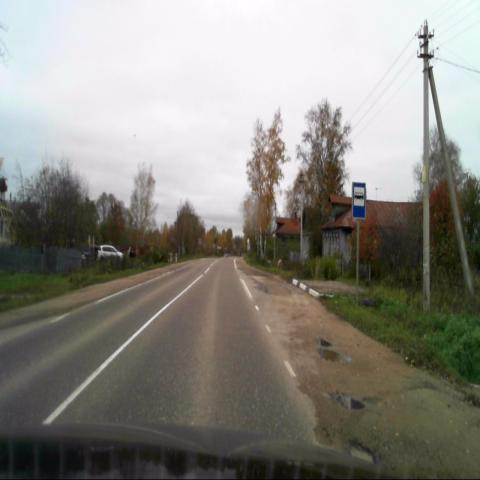5_16: (352, 184, 366, 218)
